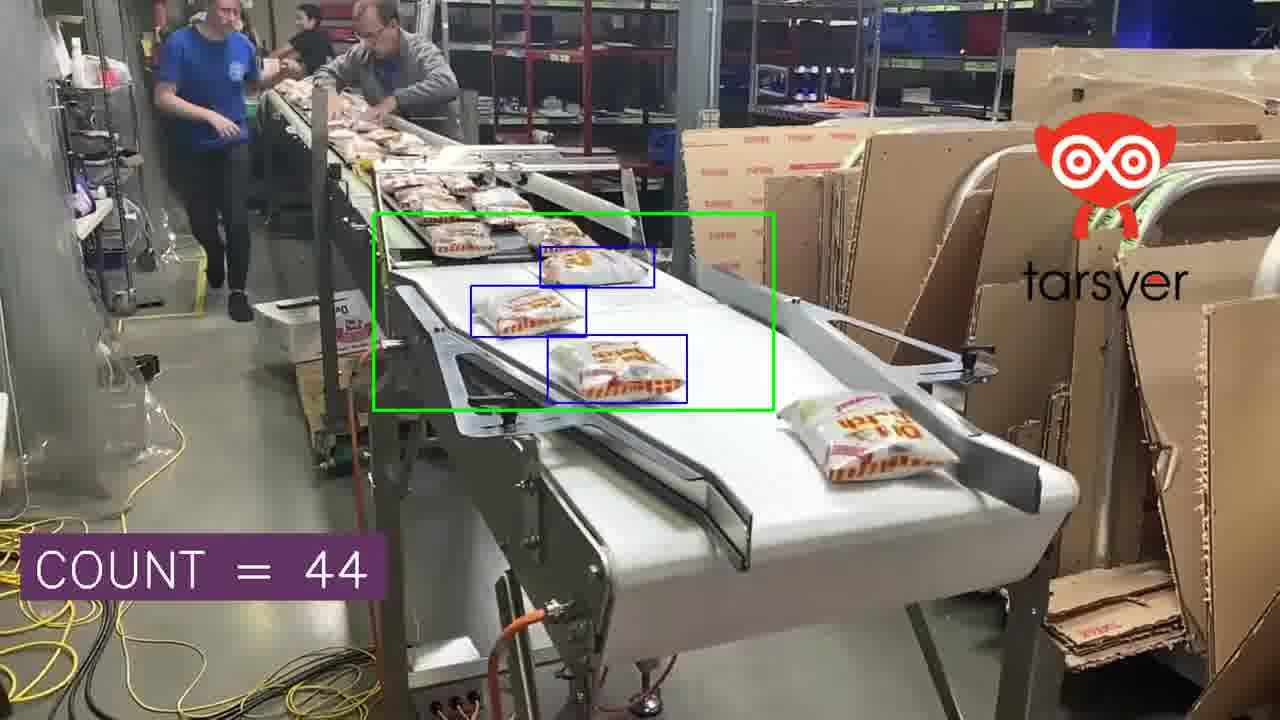Snack: (779, 391, 958, 483), (551, 340, 685, 403), (476, 288, 584, 337), (540, 248, 651, 286), (419, 220, 504, 263), (393, 185, 476, 227), (516, 217, 597, 256), (470, 187, 540, 227), (379, 172, 446, 196), (334, 137, 384, 162), (384, 133, 434, 156), (441, 173, 480, 197), (363, 127, 401, 148)
